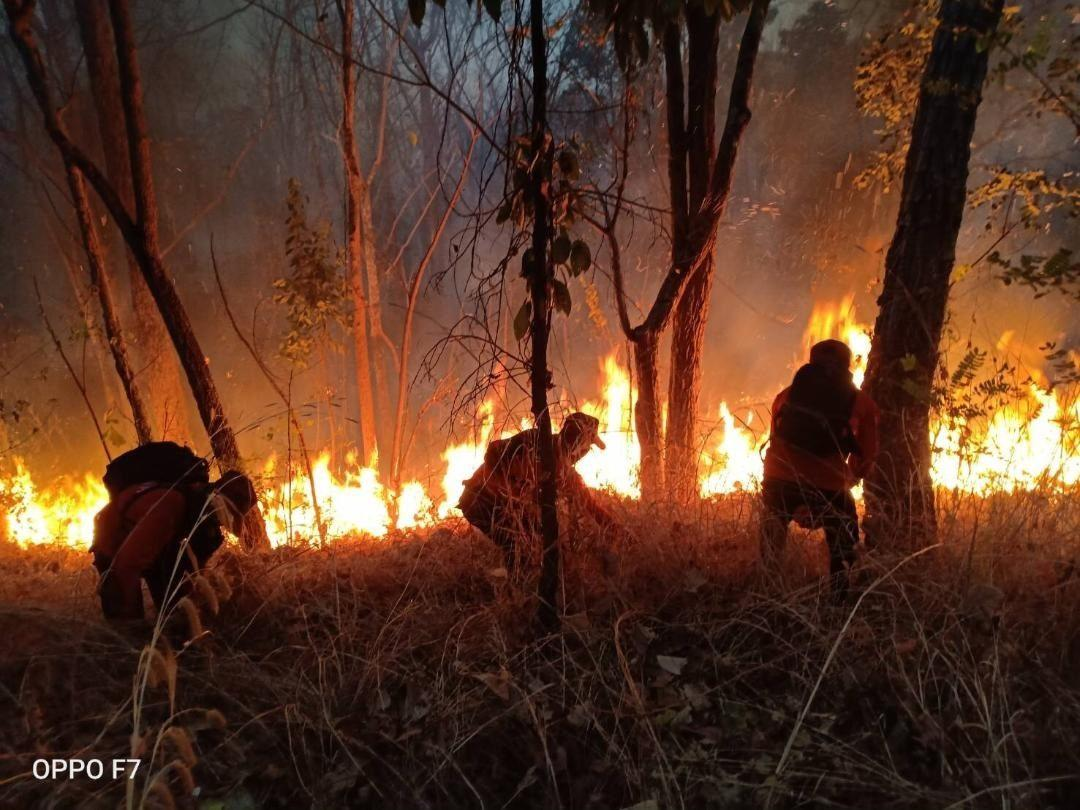fire: (0, 67, 1078, 649)
